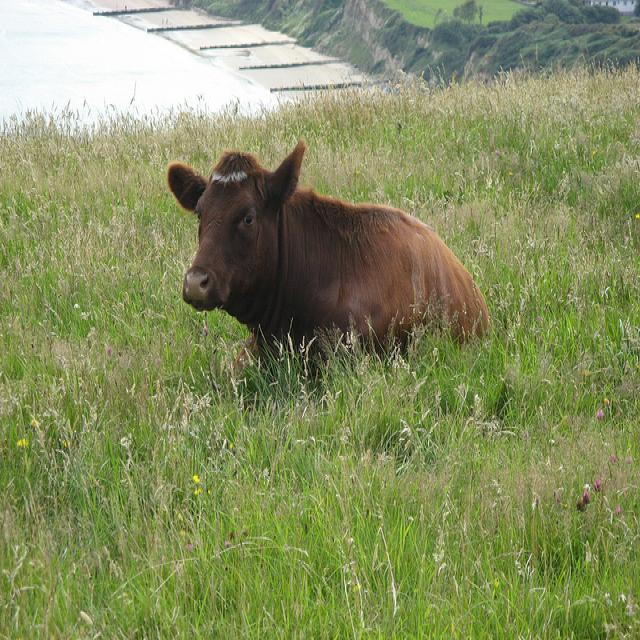cow: (163, 135, 502, 385)
